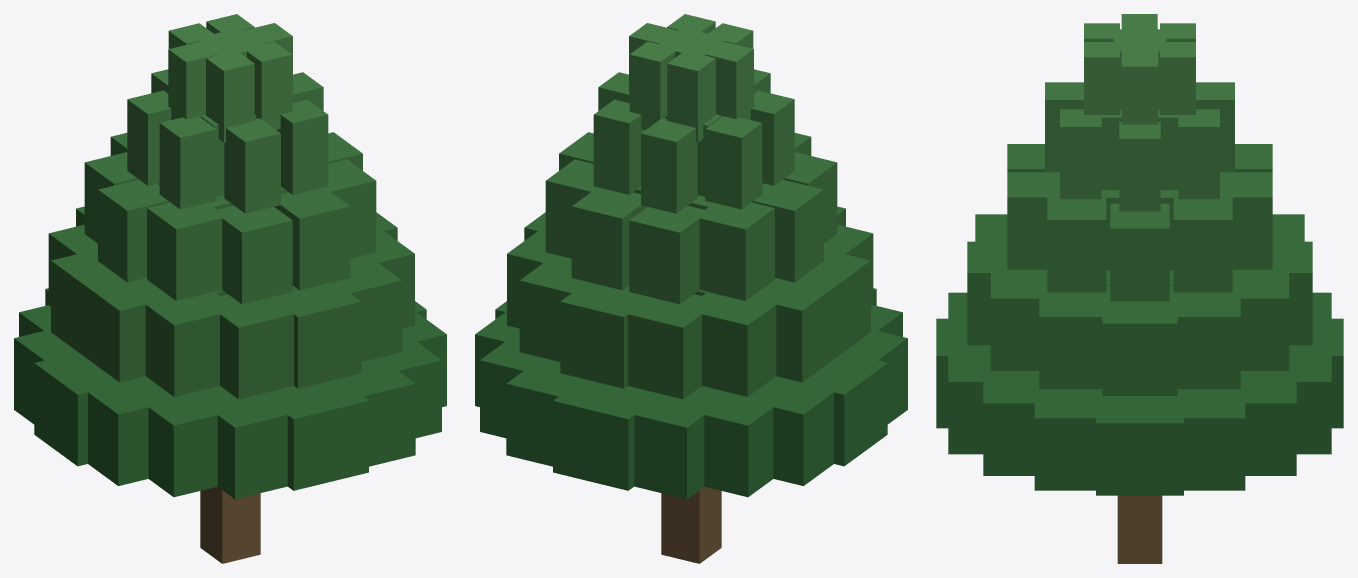
File: tree_spire.glb
The picture shows the model from 3 angles, left to right: view 1: azimuth 30°, elevation 25°; view 2: azimuth 150°, elevation 25°; view 3: azimuth 270°, elevation 25°; orthographic projection.
Parts seen in each view (by area): view 1: body; view 2: body; view 3: body.
Boxes of the visible parts, <box> form: body: <box>14,14,446,563</box>; body: <box>475,14,907,563</box>; body: <box>936,14,1343,563</box>.
Bounding box in the file's own units: 5.1 × 7.1 × 5.1.
